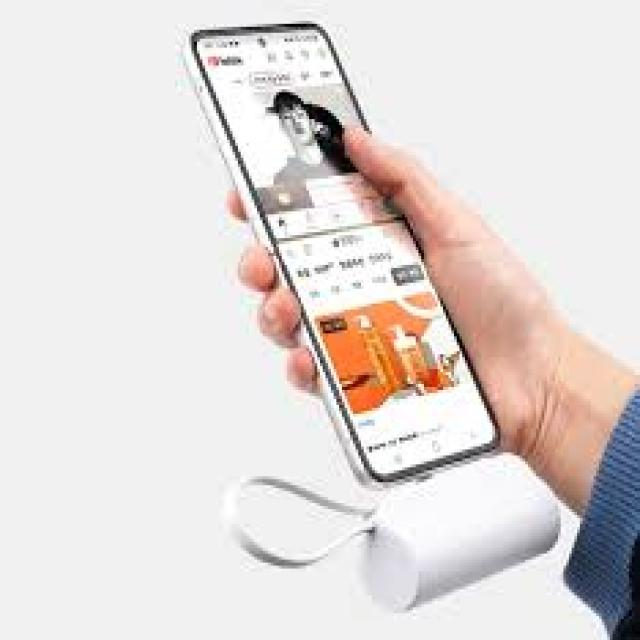power_bank: (359, 455, 559, 617)
